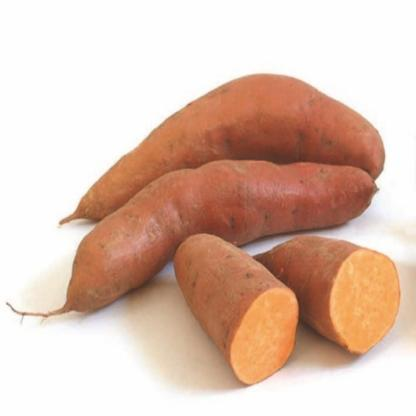---: (41, 160, 376, 315), (253, 206, 405, 374), (178, 229, 300, 390)
